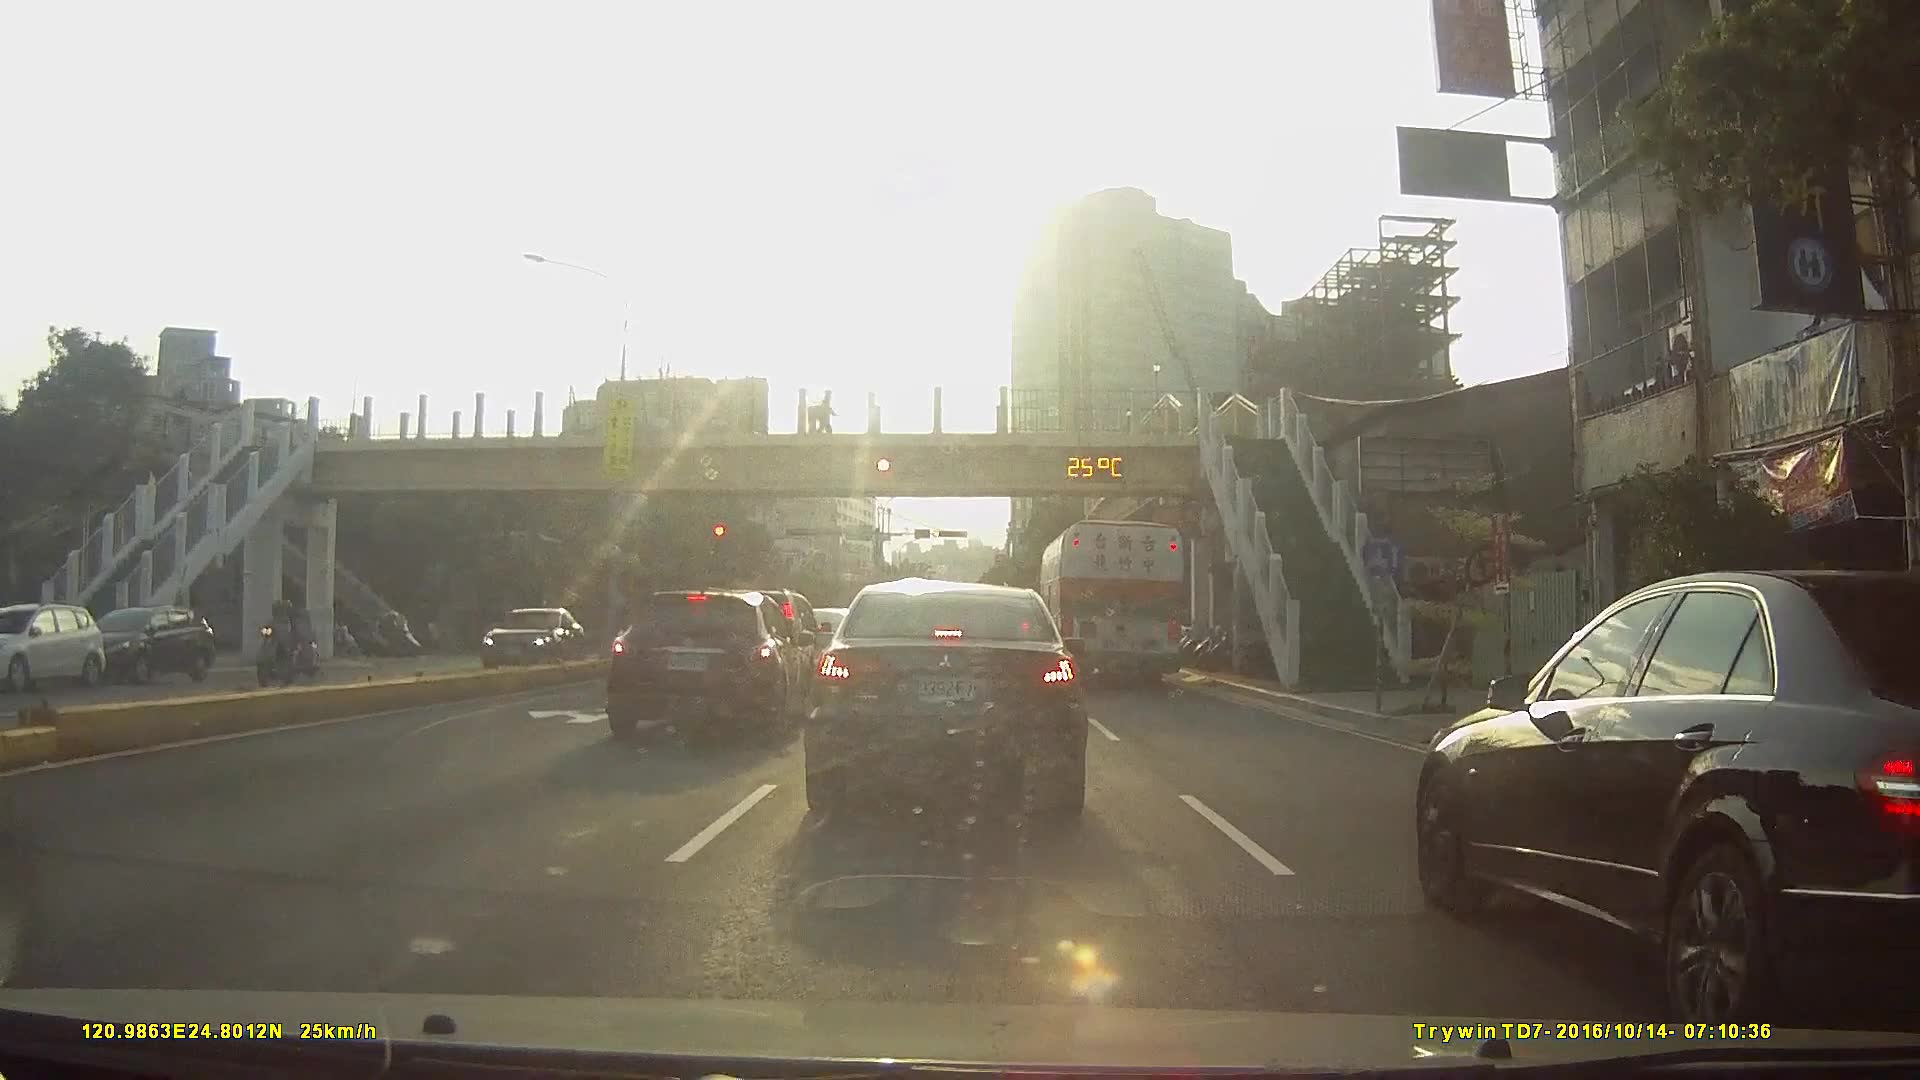pedestrian: (814, 393, 836, 441)
rider: (252, 597, 301, 690), (363, 612, 430, 658)
vehicle: (1408, 568, 1920, 1027), (801, 578, 1087, 818), (600, 585, 814, 742), (1038, 518, 1188, 692), (76, 604, 211, 683), (0, 601, 105, 691), (470, 606, 581, 668)
